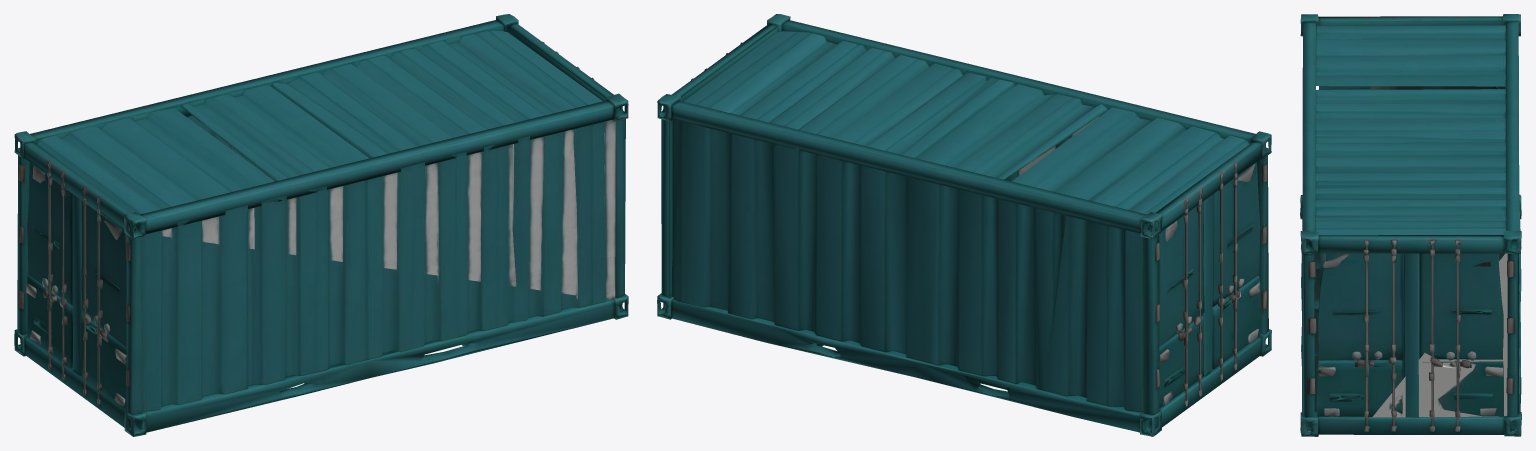
File: timber-shipping-container.glb
3 renders of one model, left to right at view 1: azimuth 30°, elevation 25°; view 2: azimuth 150°, elevation 25°; view 3: azimuth 270°, elevation 25°, orthographic. The views are drawn at different scales.
Parts seen in each view (by area): view 1: geometry_0; view 2: geometry_0; view 3: geometry_0.
Part boxes in pixels (<box>): geometry_0: <box>14,14,628,436</box>; geometry_0: <box>657,14,1271,436</box>; geometry_0: <box>1300,14,1521,436</box>.
Size of the model in its own units: 5.81 by 2.43 by 2.44.
1 material, 1 textured.
